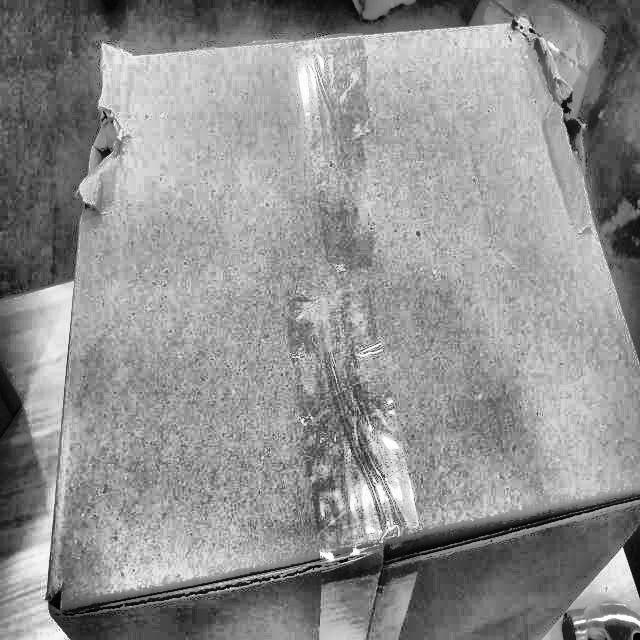box: (32, 5, 639, 639)
hole: (82, 90, 138, 219), (541, 68, 587, 188)
